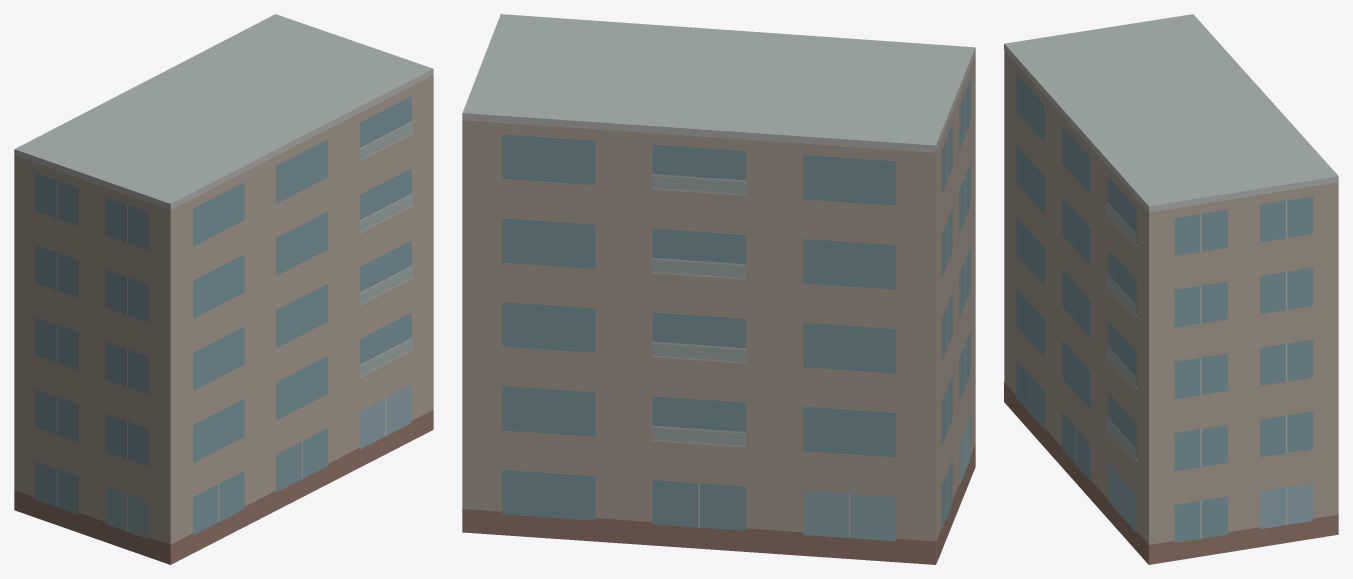
The model's file is survey-upis-32641602.glb.
3 views of the same model, side by side, from view 1: azimuth 30°, elevation 25°; view 2: azimuth 150°, elevation 25°; view 3: azimuth 270°, elevation 25° (orthographic). The views are drawn at different scales.
Visible parts, largest first — view 1: survey-upis-32641602.tmp; view 2: survey-upis-32641602.tmp; view 3: survey-upis-32641602.tmp.
Part boxes in pixels (x1,y1,x2,y2): survey-upis-32641602.tmp: (14,14,433,564); survey-upis-32641602.tmp: (462,14,975,564); survey-upis-32641602.tmp: (1004,14,1338,564).
Size of the model in its own units: 16.24 by 14.1 by 11.93.
